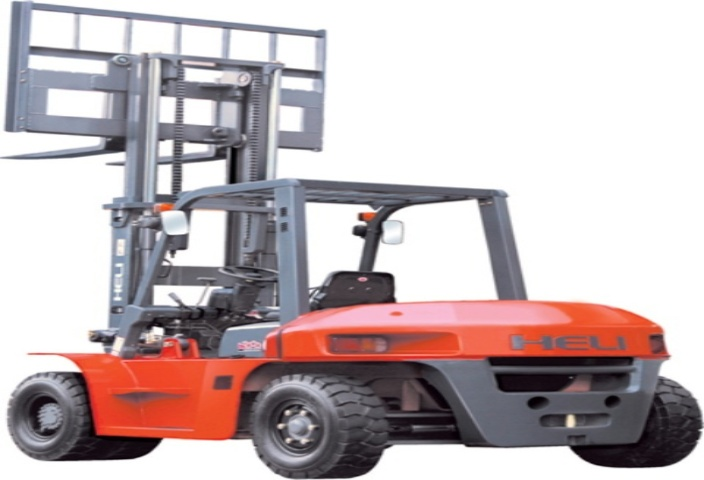industrial: (1, 2, 704, 472)
